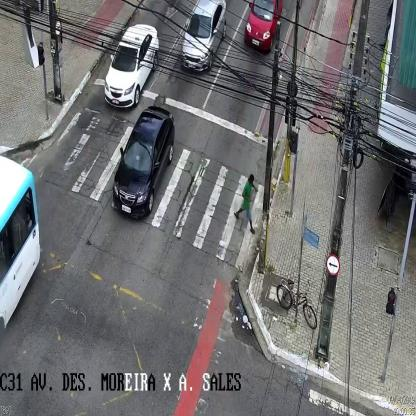bicycle: (276, 277, 317, 330)
car: (113, 105, 175, 219), (103, 23, 159, 110), (182, 0, 227, 70), (245, 0, 283, 52)
person: (234, 174, 255, 234)
